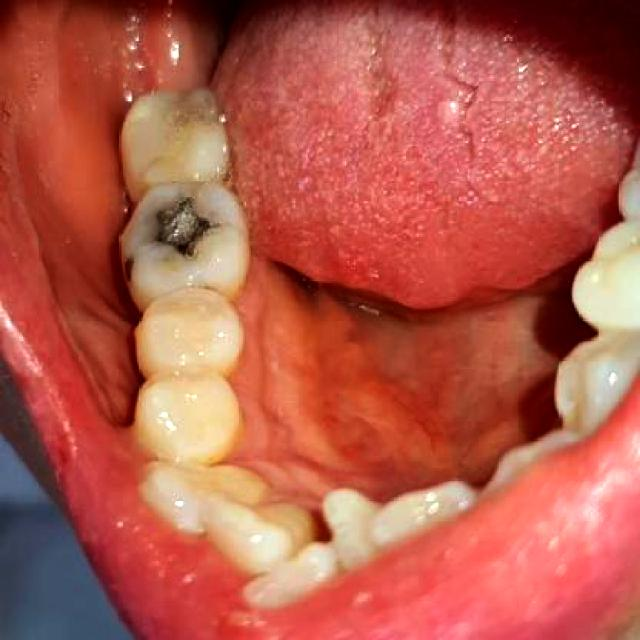Plaque: (163, 103, 196, 129), (157, 253, 188, 277)
